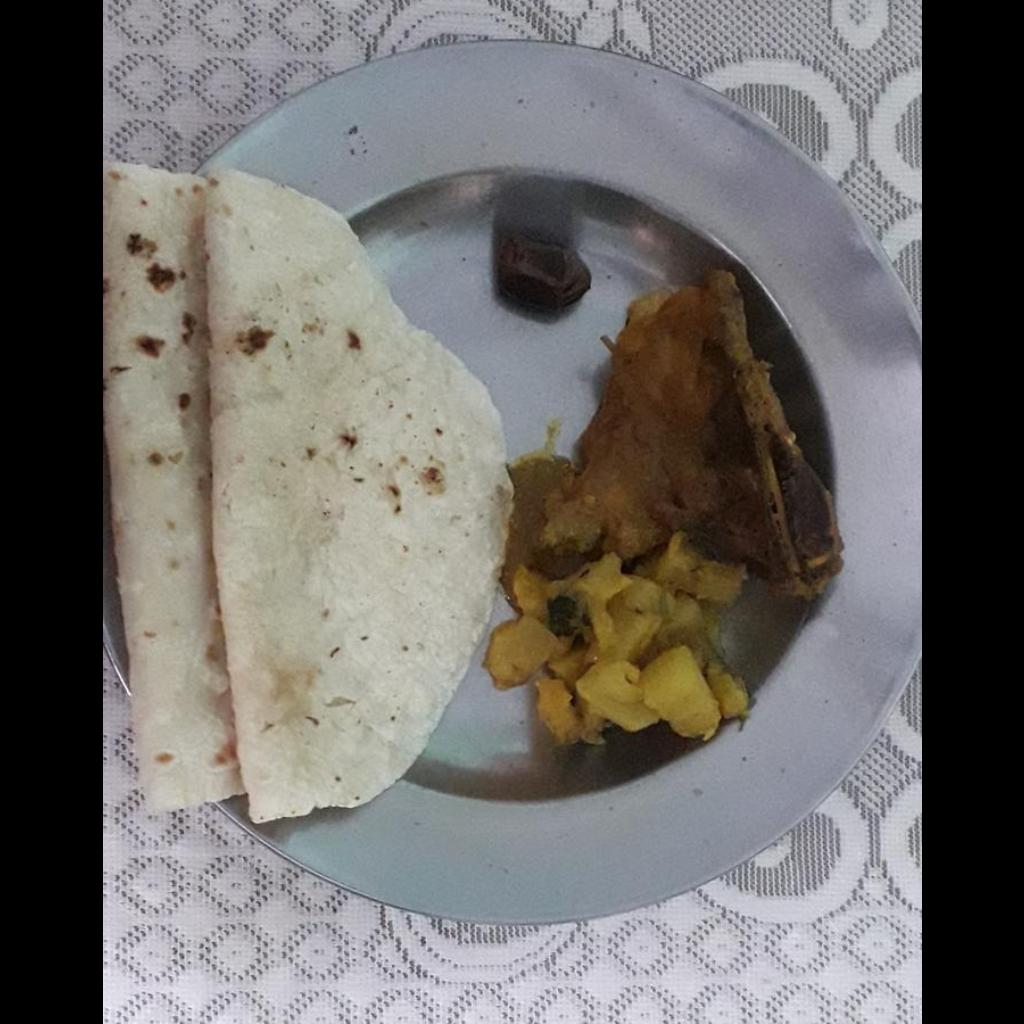chicken: (549, 276, 847, 581)
ruti: (102, 154, 510, 823)
vegetable: (486, 559, 768, 760)
